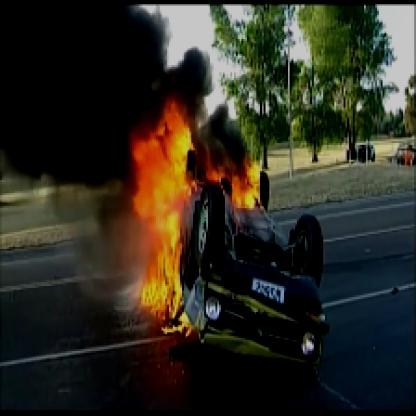Fire: (117, 82, 264, 336)
